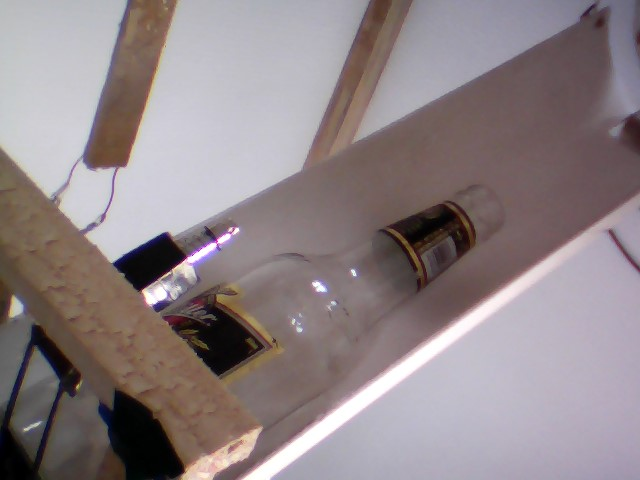vidrio: (179, 175, 521, 441)
